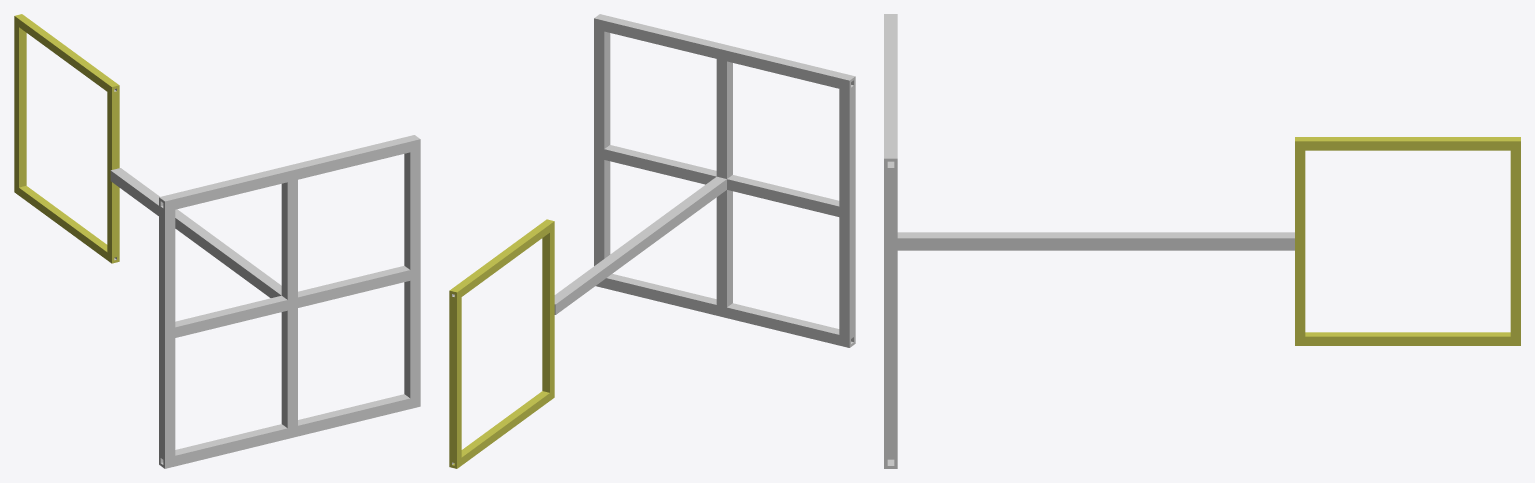
File: tc6_ring.dae
The picture shows the model from 3 angles, left to right: view 1: azimuth 30°, elevation 25°; view 2: azimuth 150°, elevation 25°; view 3: azimuth 270°, elevation 25°; orthographic projection. The views are drawn at different scales.
Visible parts, largest first — view 1: node0; view 2: node0; view 3: node0.
Boxes of the visible parts, <box> form: node0: <box>14,14,420,468</box>; node0: <box>449,14,855,468</box>; node0: <box>884,14,1520,468</box>.
Size of the model in its own units: 1 by 1.86 by 1.
